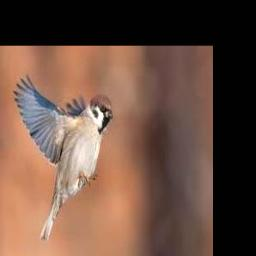Sparrow: (13, 73, 113, 239)
